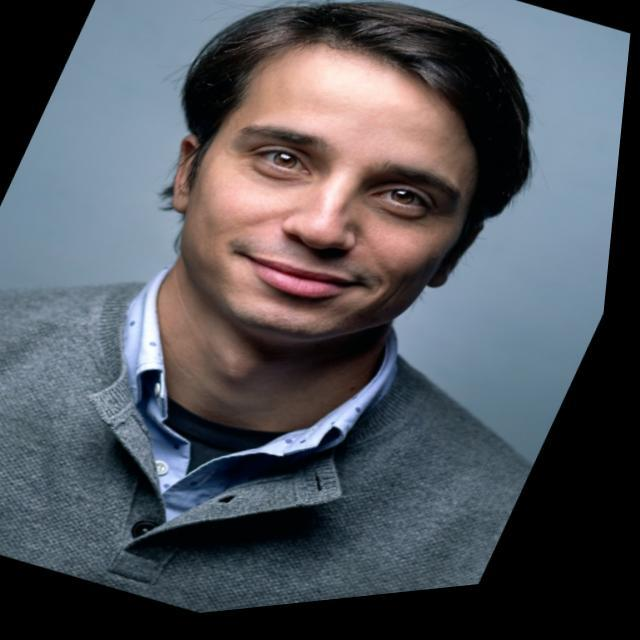Nonhelmet: (156, 1, 535, 349)
